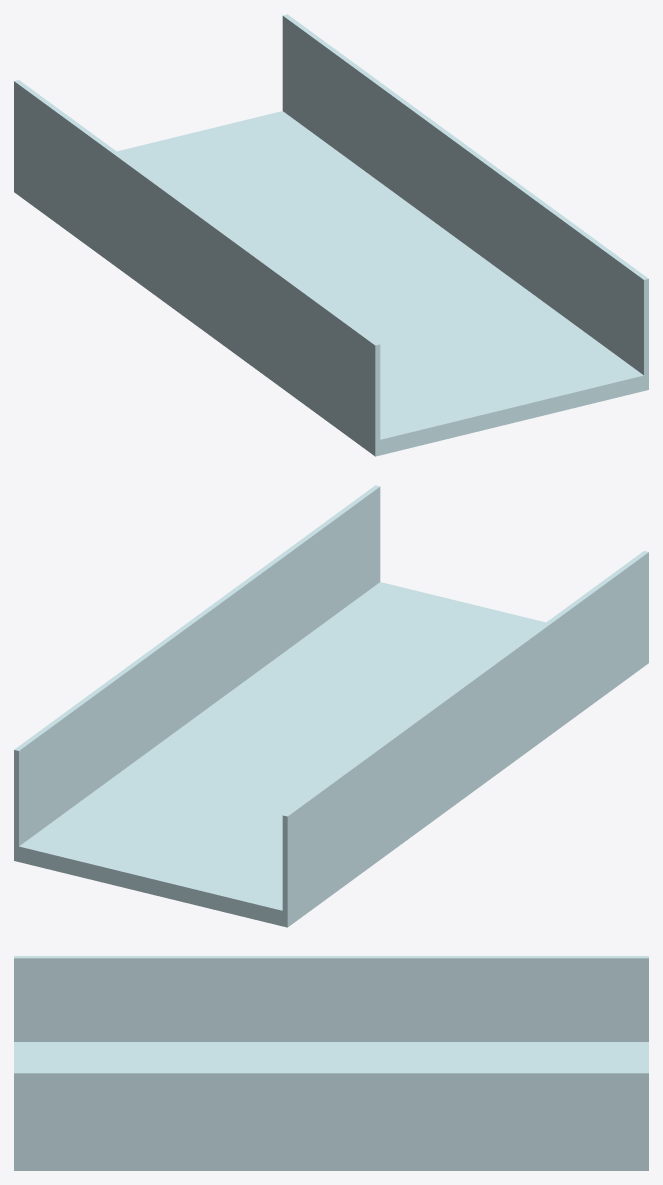
The model's file is climb-skin-2.glb.
The picture shows the model from 3 angles, top to bottom: view 1: azimuth 30°, elevation 25°; view 2: azimuth 150°, elevation 25°; view 3: azimuth 270°, elevation 25°; orthographic projection. The views are drawn at different scales.
Visible parts, largest first — view 1: climb-skin-2; view 2: climb-skin-2; view 3: climb-skin-2.
Part boxes in pixels (x1,y1,x2,y2): climb-skin-2: (14, 14, 648, 456); climb-skin-2: (14, 485, 648, 927); climb-skin-2: (14, 956, 648, 1170).
Bounding box in the file's own units: 3.3 × 1.28 × 7.55.
Materials: 1 (1 with a texture image).
